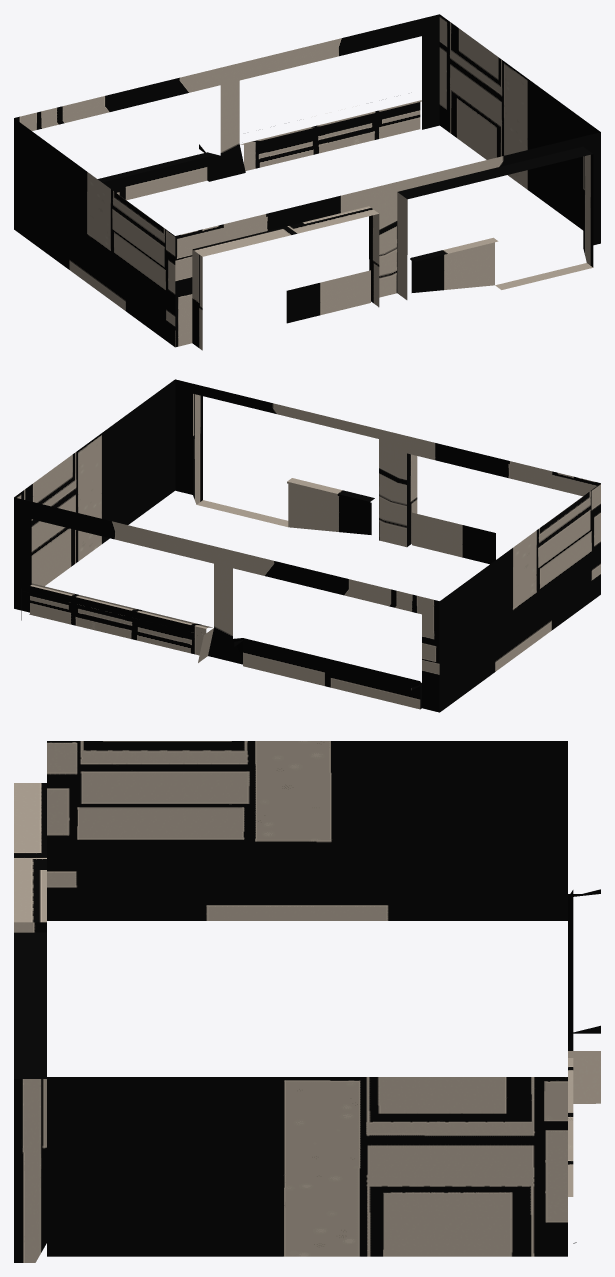
The model's file is Wall_Cap.fbx.
3 views of the same model, one above another, from view 1: azimuth 30°, elevation 25°; view 2: azimuth 150°, elevation 25°; view 3: azimuth 270°, elevation 25° (orthographic). The views are drawn at different scales.
Parts seen in each view (by area): view 1: Wall_Cap; view 2: Wall_Cap; view 3: Wall_Cap.
Part boxes in pixels (x1,y1,x2,y2): Wall_Cap: (14, 14, 600, 350); Wall_Cap: (14, 379, 600, 712); Wall_Cap: (14, 741, 600, 1262).
Bounding box in the file's own units: 1646 × 457 × 1216.
